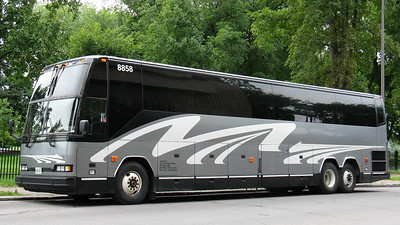bus: (14, 55, 388, 204)
